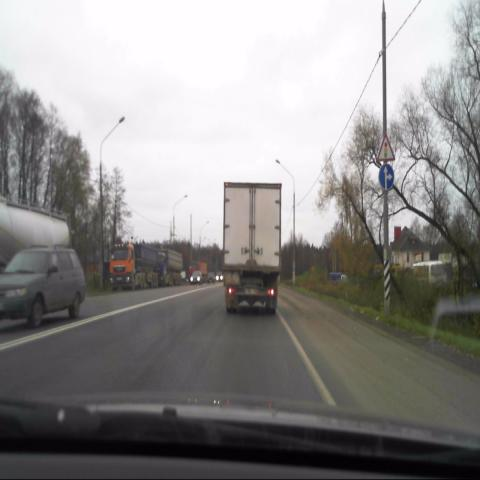1_8: (377, 132, 396, 162)
